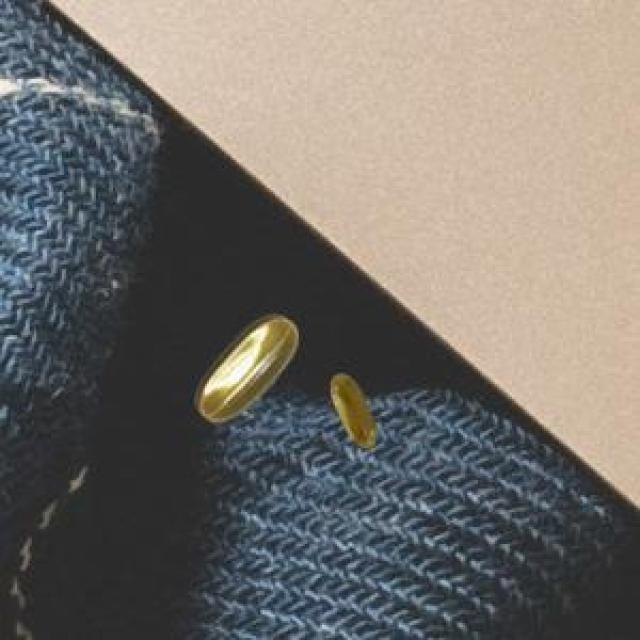Fish_Oil: (190, 304, 304, 442), (318, 362, 390, 464)
